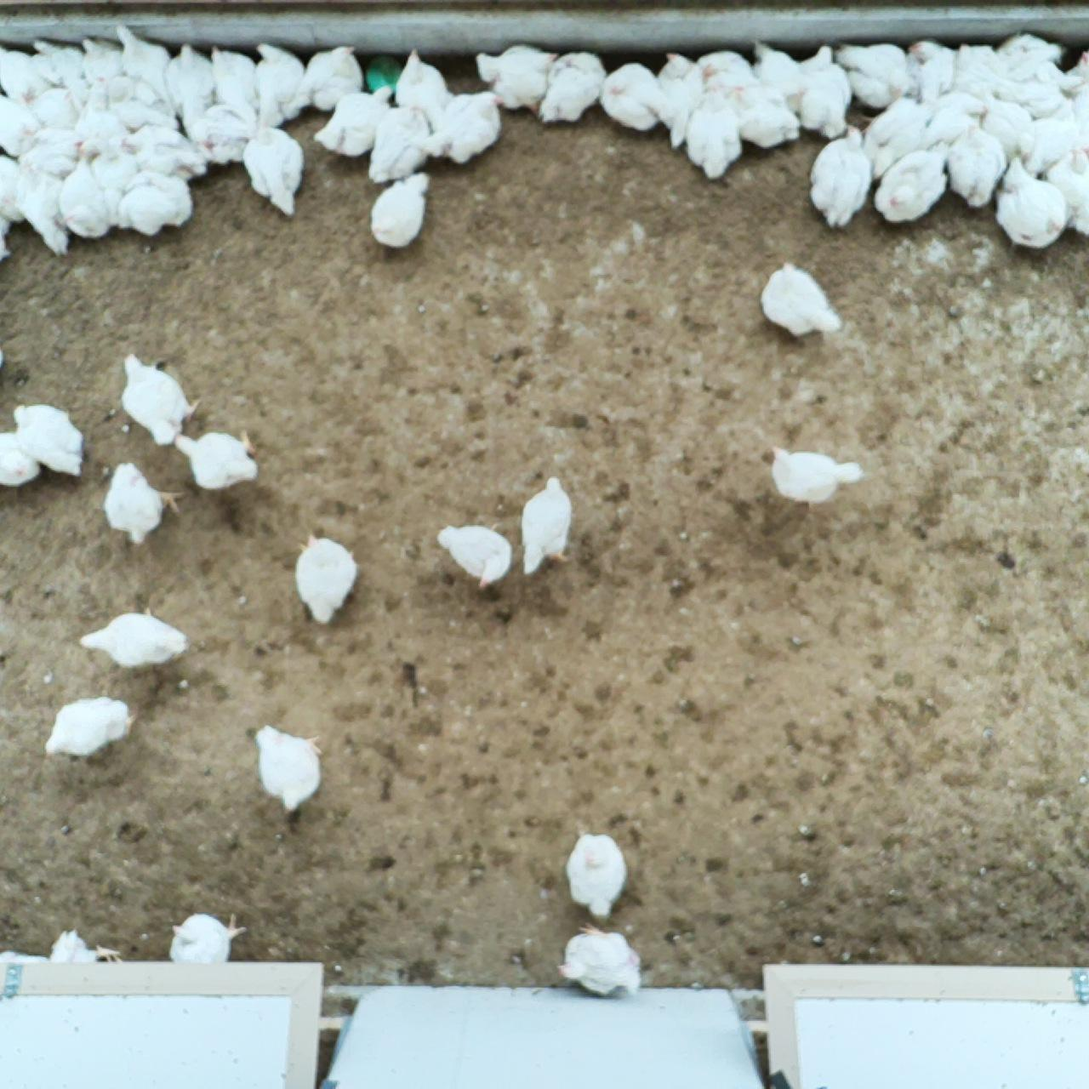chicken: (114, 355, 201, 445), (872, 134, 954, 226), (40, 693, 144, 765), (294, 529, 370, 627), (98, 460, 179, 550), (78, 604, 189, 668), (759, 259, 843, 343), (555, 922, 644, 998), (312, 83, 396, 163), (861, 97, 939, 183), (832, 37, 922, 111), (804, 124, 869, 226), (784, 41, 851, 138), (14, 157, 75, 262), (241, 116, 305, 216), (173, 425, 264, 495), (253, 725, 326, 812), (563, 831, 629, 924), (516, 473, 575, 575), (768, 444, 863, 507), (718, 78, 801, 148), (422, 91, 504, 161), (945, 115, 1005, 210), (13, 401, 88, 477), (119, 124, 208, 188), (247, 43, 311, 132), (115, 167, 196, 237), (364, 103, 432, 186), (682, 81, 738, 181), (287, 43, 365, 114), (159, 37, 214, 136), (653, 50, 708, 149), (386, 47, 449, 131), (367, 171, 436, 247), (436, 523, 513, 591), (183, 101, 263, 164), (164, 909, 248, 968), (915, 87, 990, 153), (749, 38, 811, 117), (101, 74, 181, 135), (55, 154, 110, 241), (971, 83, 1030, 164), (992, 63, 1080, 117), (596, 60, 663, 130), (1020, 100, 1076, 181), (1040, 147, 1089, 236), (72, 80, 130, 153), (83, 133, 131, 220), (207, 46, 261, 121), (117, 23, 168, 102), (0, 34, 57, 103), (18, 123, 87, 179), (540, 65, 602, 127), (990, 32, 1064, 83), (66, 71, 113, 151), (906, 39, 961, 105), (48, 923, 123, 967), (694, 45, 758, 96), (473, 43, 556, 81), (542, 46, 606, 94), (0, 85, 40, 160), (484, 66, 544, 114), (20, 82, 85, 125), (950, 44, 999, 101), (30, 36, 87, 84), (1063, 50, 1089, 147), (0, 427, 43, 485), (81, 38, 130, 88), (0, 143, 28, 223)
